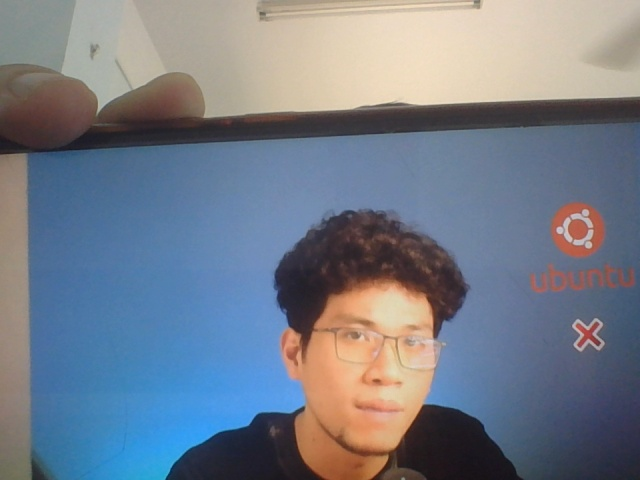fake: (286, 230, 445, 456)
